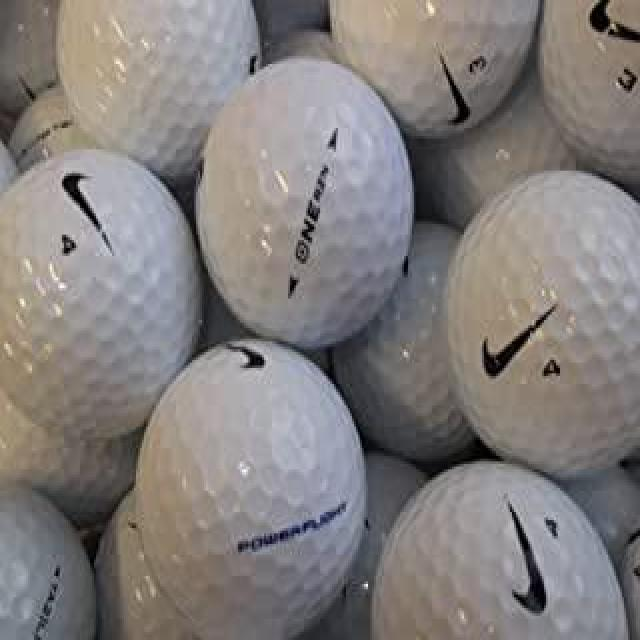ball: (194, 54, 426, 347)
